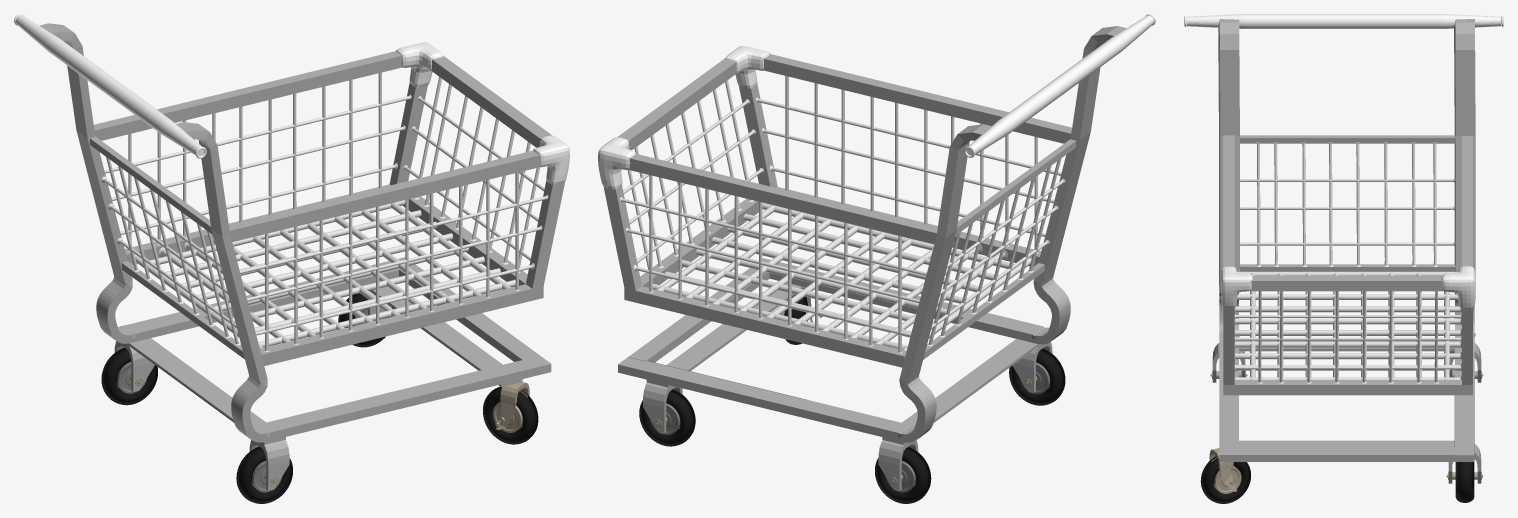
The model's file is cart.glb.
3 renders of one model, left to right at view 1: azimuth 30°, elevation 25°; view 2: azimuth 150°, elevation 25°; view 3: azimuth 270°, elevation 25°, orthographic. The views are drawn at different scales.
Visible parts, largest first — view 1: Cube.009, Cube.002, Torus.005, Cube.001, Cube, Cube.007, Torus, Torus.002, Torus.003, Cube.008, Cylinder.068, Cube.010 (+27 smaller); view 2: Cube.009, Cube.002, Torus.005, Cube.001, Cube, Cube.007, Torus.001, Torus.003, Torus.002, Cube.008, Cube.010, Cylinder.057 (+26 smaller); view 3: Cube.002, Cube.009, Torus.005, Cube.007, Cube, Cube.008, Cylinder.040, Cylinder.044, Cylinder.038, Cylinder.046, Torus, Cube.001 (+30 smaller).
Boxes of the visible parts, bbox=[...] form: Cube.009: bbox=[94, 51, 569, 365]; Cube.002: bbox=[39, 23, 551, 442]; Torus.005: bbox=[14, 14, 206, 158]; Cube.001: bbox=[126, 338, 285, 444]; Cube: bbox=[370, 286, 522, 386]; Cube.007: bbox=[90, 136, 212, 234]; Torus: bbox=[483, 386, 538, 444]; Torus.002: bbox=[236, 446, 292, 503]; Torus.003: bbox=[101, 347, 157, 405]; Cube.008: bbox=[121, 261, 244, 359]; Cylinder.068: bbox=[258, 279, 515, 347]; Cube.010: bbox=[396, 42, 443, 87]; Cube.009: bbox=[603, 54, 1071, 367]; Cube.002: bbox=[618, 26, 1126, 442]; Torus.005: bbox=[964, 14, 1155, 157]; Cube.001: bbox=[882, 339, 1040, 444]; Cube: bbox=[646, 283, 804, 387]; Cube.007: bbox=[955, 139, 1076, 235]; Torus.001: bbox=[639, 389, 695, 446]; Torus.003: bbox=[875, 447, 931, 503]; Torus.002: bbox=[1009, 348, 1065, 405]; Cube.008: bbox=[923, 263, 1044, 359]; Cube.010: bbox=[598, 137, 635, 189]; Cylinder.057: bbox=[682, 260, 934, 323]; Cube.002: bbox=[1218, 19, 1475, 461]; Cube.009: bbox=[1223, 135, 1472, 395]; Torus.005: bbox=[1184, 14, 1503, 28]; Cube.007: bbox=[1240, 135, 1455, 143]; Cube: bbox=[1239, 440, 1454, 447]; Cube.008: bbox=[1240, 264, 1455, 271]; Cylinder.040: bbox=[1234, 341, 1461, 348]; Cylinder.044: bbox=[1234, 318, 1461, 325]; Cylinder.038: bbox=[1234, 351, 1461, 360]; Cylinder.046: bbox=[1234, 306, 1461, 313]; Torus: bbox=[1200, 456, 1250, 503]; Cube.001: bbox=[1239, 340, 1454, 351].
Bounding box in the file's own units: 292 × 277 × 231.
